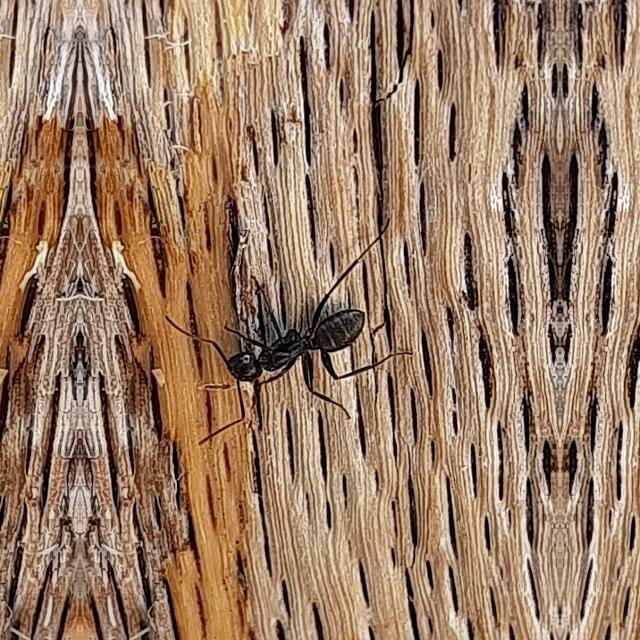Camponotus: (184, 285, 404, 419)
